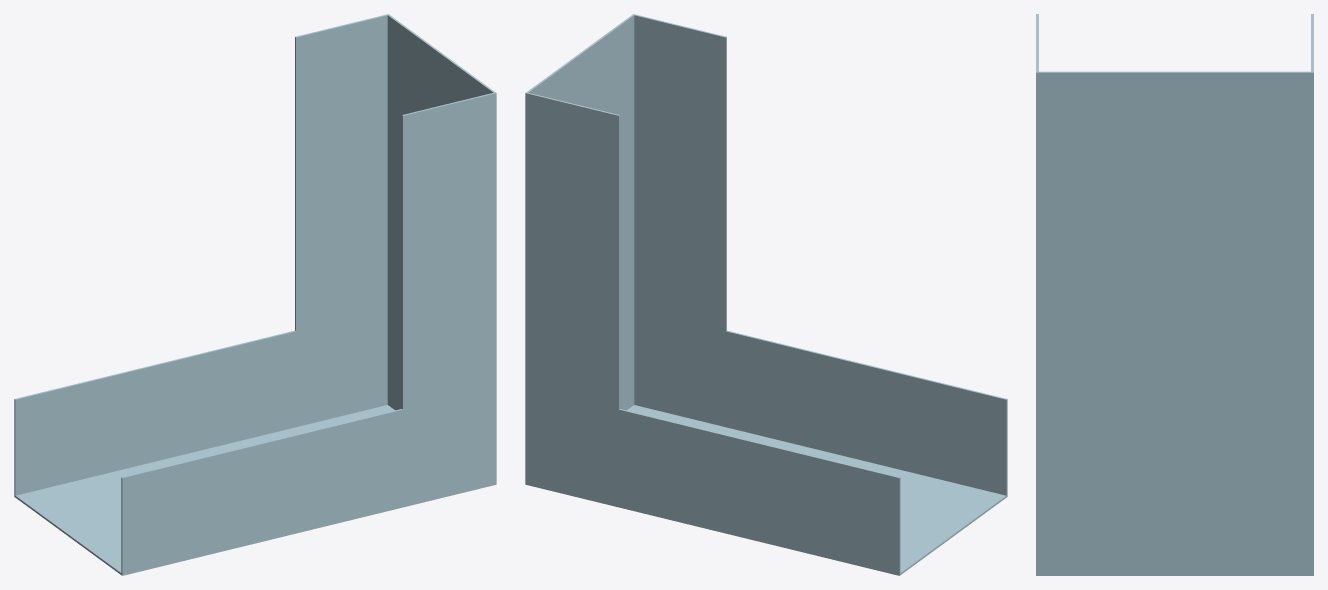
3 views of the same model, side by side, from view 1: azimuth 30°, elevation 25°; view 2: azimuth 150°, elevation 25°; view 3: azimuth 270°, elevation 25° (orthographic). The views are drawn at different scales.
Parts seen in each view (by area): view 1: L3-C05; view 2: L3-C05; view 3: L3-C05.
Boxes of the visible parts, <box> form: L3-C05: <box>14,14,496,575</box>; L3-C05: <box>525,14,1007,575</box>; L3-C05: <box>1036,14,1313,575</box>.
Bounding box in the file's own units: 0.4 × 0.4 × 0.2.
